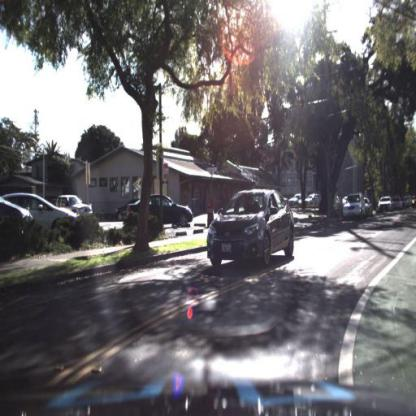car: (206, 184, 296, 266), (0, 190, 80, 240), (126, 194, 192, 228), (58, 188, 96, 221), (52, 193, 95, 220), (340, 191, 364, 223), (376, 193, 394, 214), (362, 191, 374, 217), (388, 194, 402, 213), (402, 192, 414, 213), (410, 193, 416, 214)
